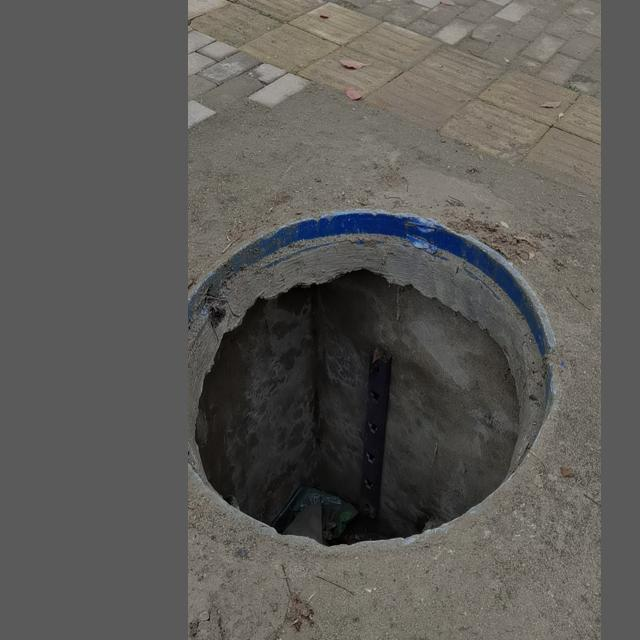lose: (188, 211, 559, 554)
